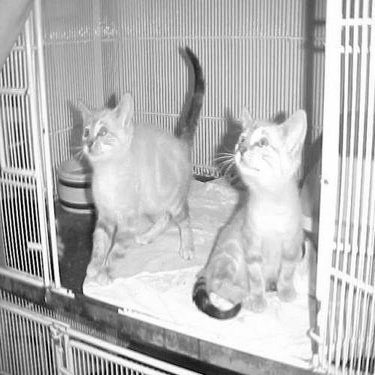cat: (67, 44, 203, 281), (182, 104, 314, 314)
